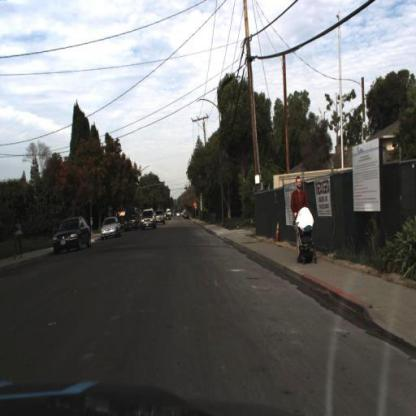car: (50, 206, 97, 260), (51, 218, 95, 250), (97, 213, 124, 243), (138, 207, 160, 236), (99, 216, 122, 243), (138, 207, 160, 235), (122, 206, 142, 232), (155, 205, 167, 229)
pedestrian: (286, 174, 319, 268), (12, 208, 24, 262)
